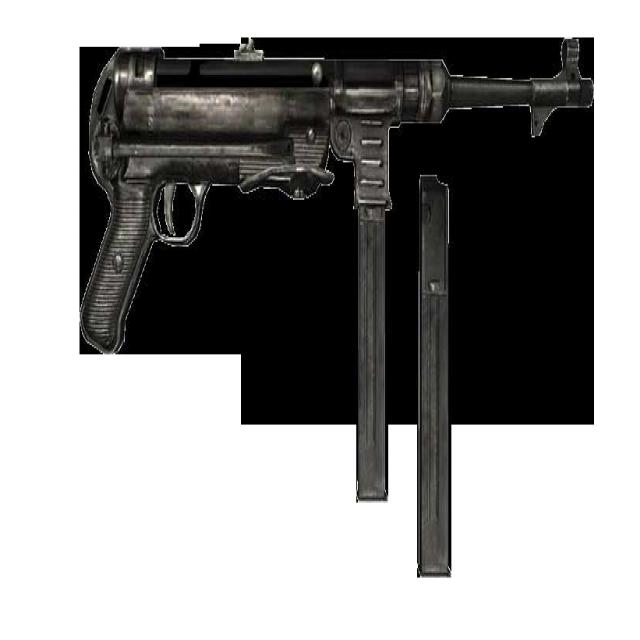SMG: (83, 48, 594, 503)
